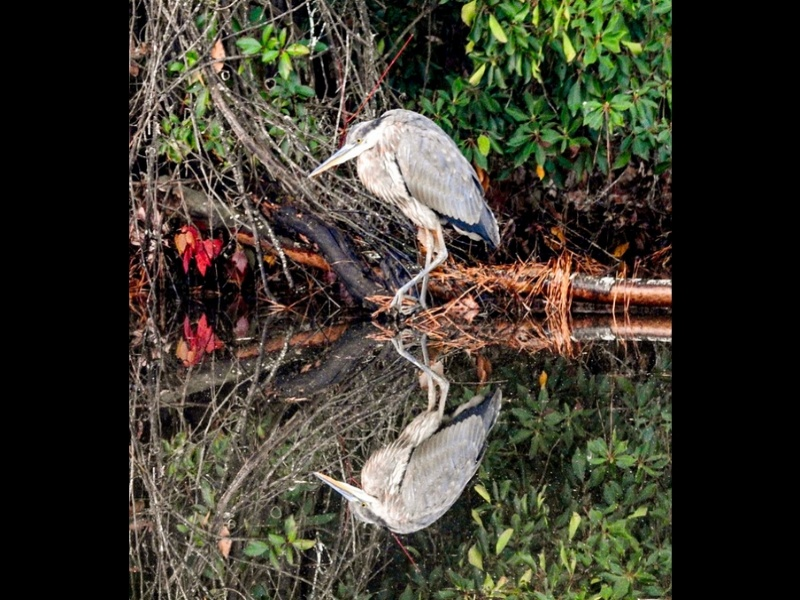heron: (307, 106, 503, 314)
